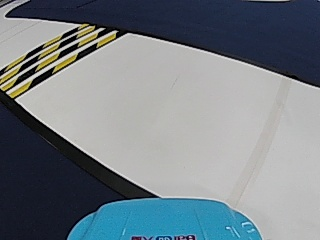bump: (6, 23, 121, 91)
